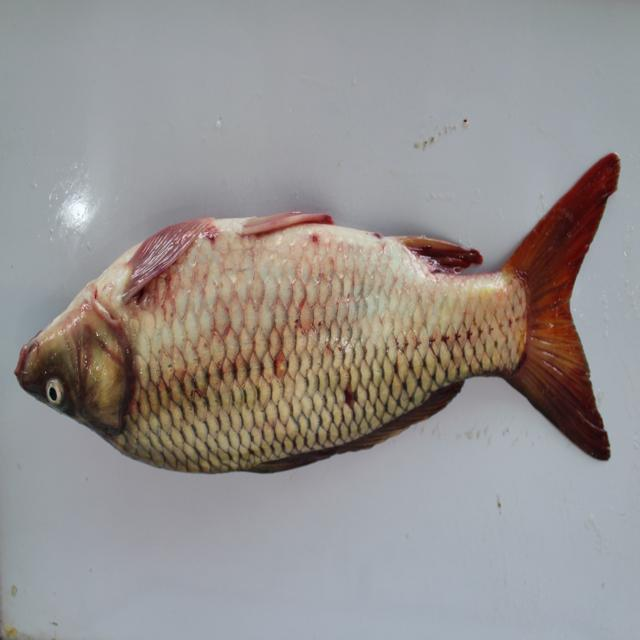CommonCarp: (19, 183, 632, 480)
